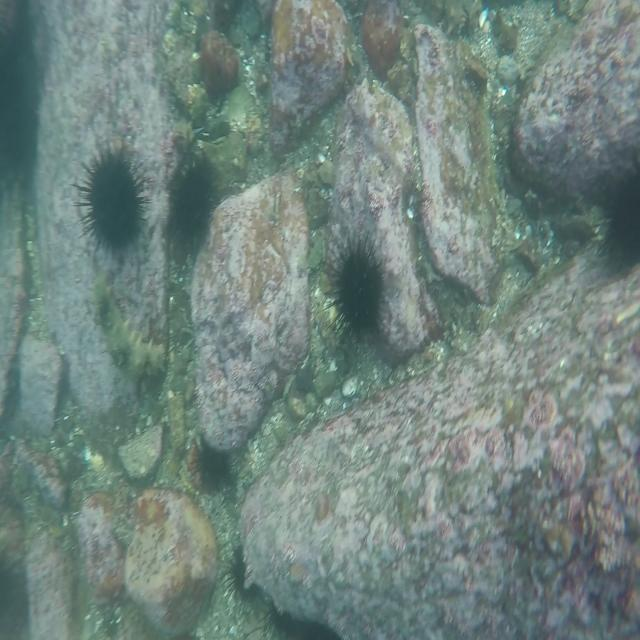echinus: (72, 147, 148, 251), (318, 241, 387, 337), (164, 152, 218, 244), (597, 153, 640, 264), (269, 595, 336, 640), (191, 429, 237, 494), (224, 542, 262, 605)
